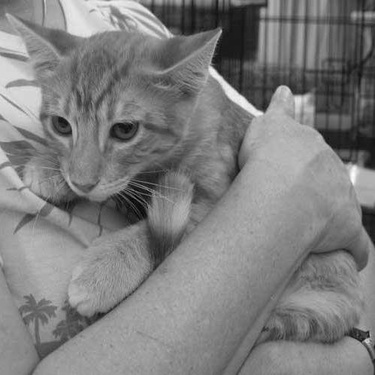cat: (7, 8, 355, 331)
